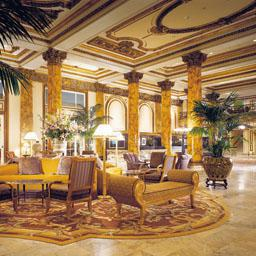Matera: (191, 89, 248, 187)
